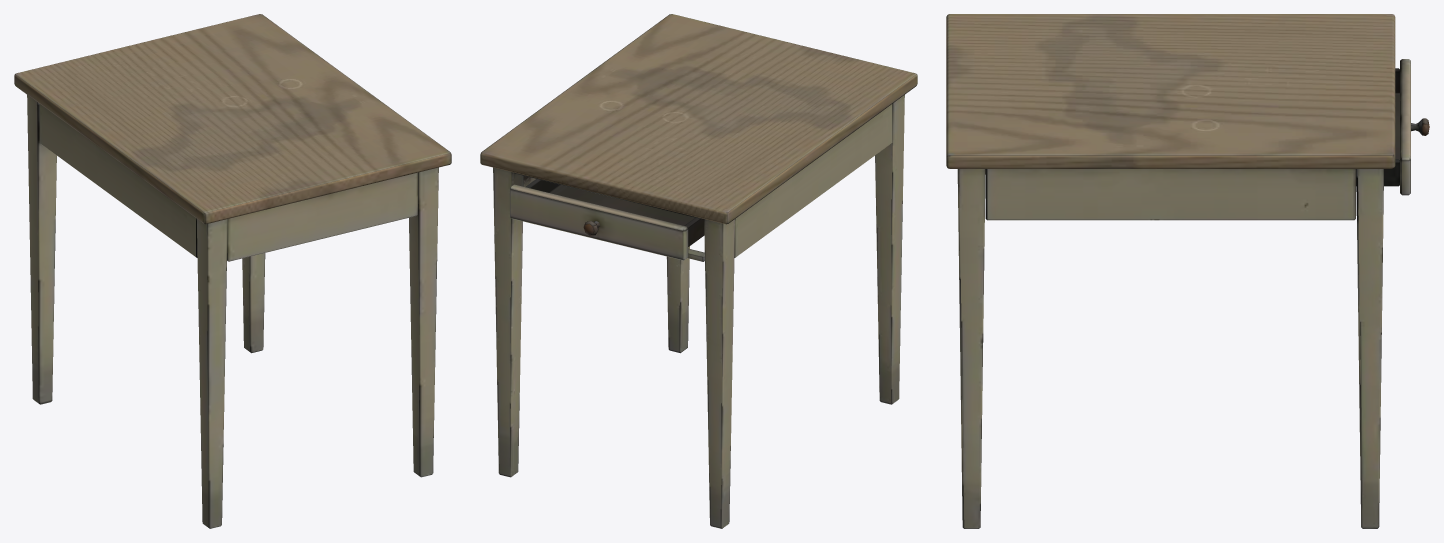
File: furniture_table_small.glb
3 views of the same model, side by side, from view 1: azimuth 30°, elevation 25°; view 2: azimuth 150°, elevation 25°; view 3: azimuth 270°, elevation 25° (orthographic). The views are drawn at different scales.
Parts seen in each view (by area): view 1: furniture_table_small; view 2: furniture_table_small; view 3: furniture_table_small.
Part boxes in pixels (bbox=[...]): furniture_table_small: bbox=[14, 14, 451, 528]; furniture_table_small: bbox=[480, 14, 917, 528]; furniture_table_small: bbox=[946, 14, 1429, 528].
Size of the model in its own units: 0.6 by 0.75 by 0.861.
Materials: 1 (1 with a texture image).
